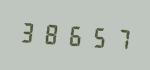eight: (40, 17, 61, 49)
five: (84, 20, 105, 52)
seven: (106, 22, 127, 53)
six: (62, 19, 83, 50)
three: (18, 16, 39, 47)
